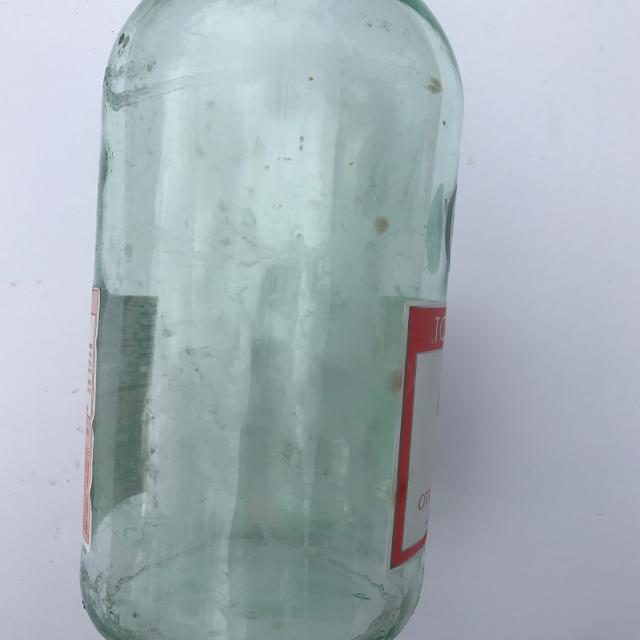glass: (78, 0, 464, 640)
